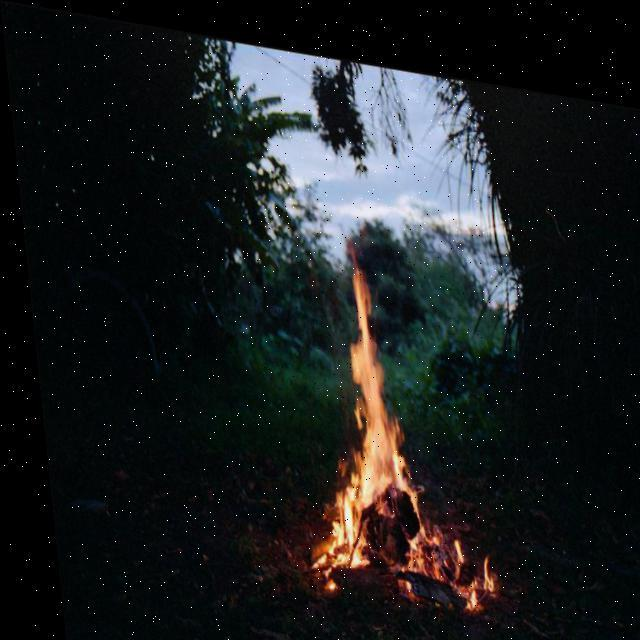Fire: (278, 219, 492, 616)
